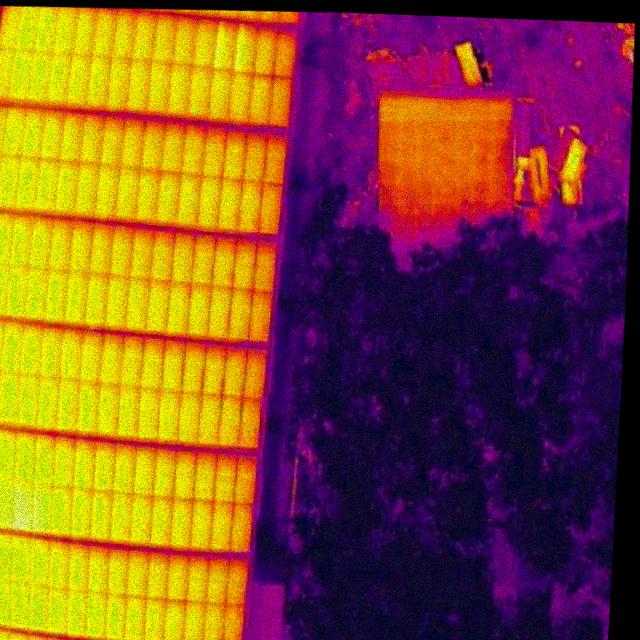Diode: (229, 21, 263, 76), (207, 19, 240, 72)
